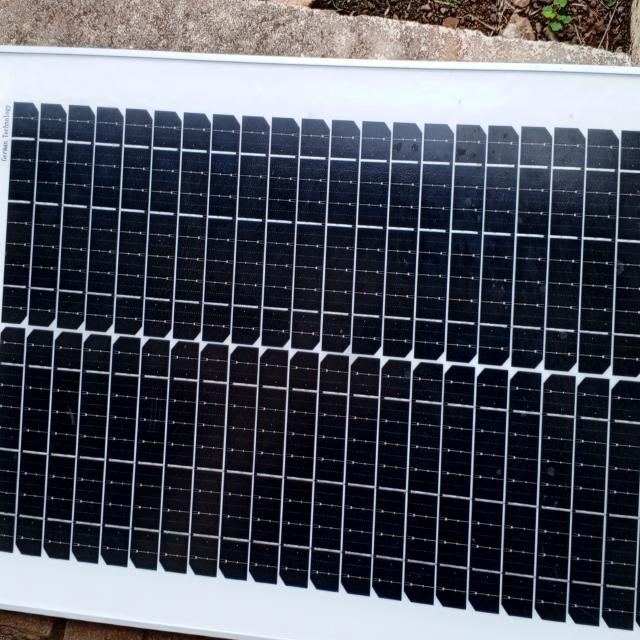Clean: (1, 76, 640, 606)
